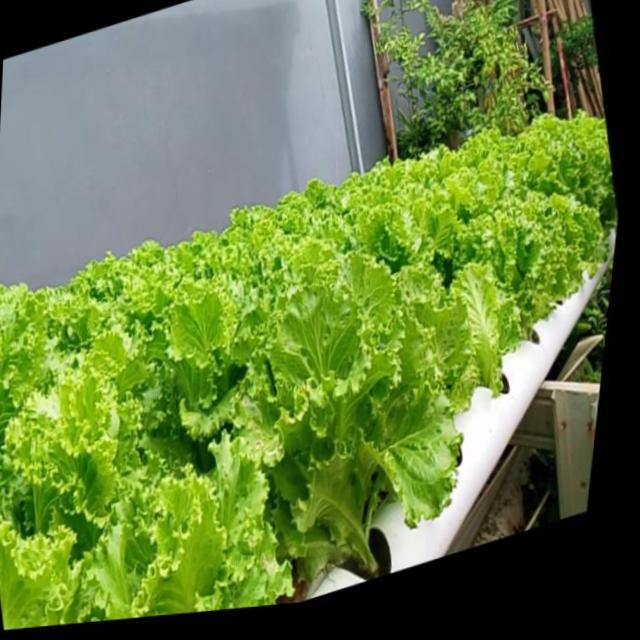Mature: (248, 253, 468, 582), (471, 189, 584, 353)
